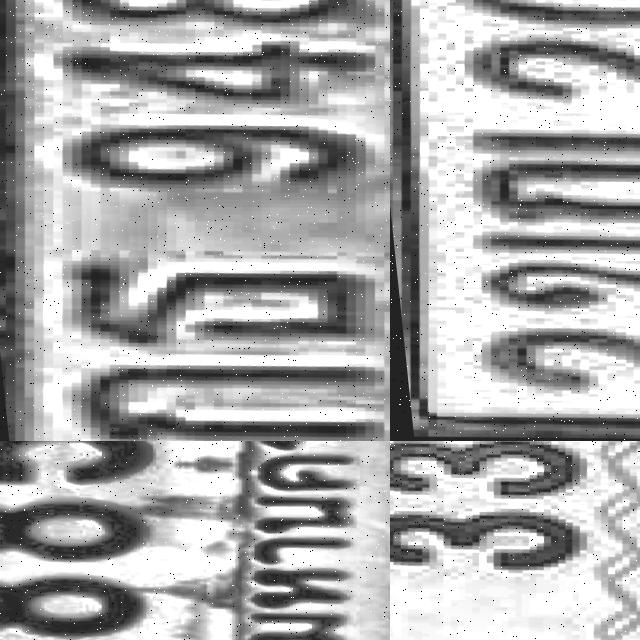license-plate: (0, 0, 390, 441), (390, 0, 640, 441), (0, 441, 390, 640), (390, 441, 640, 640)
